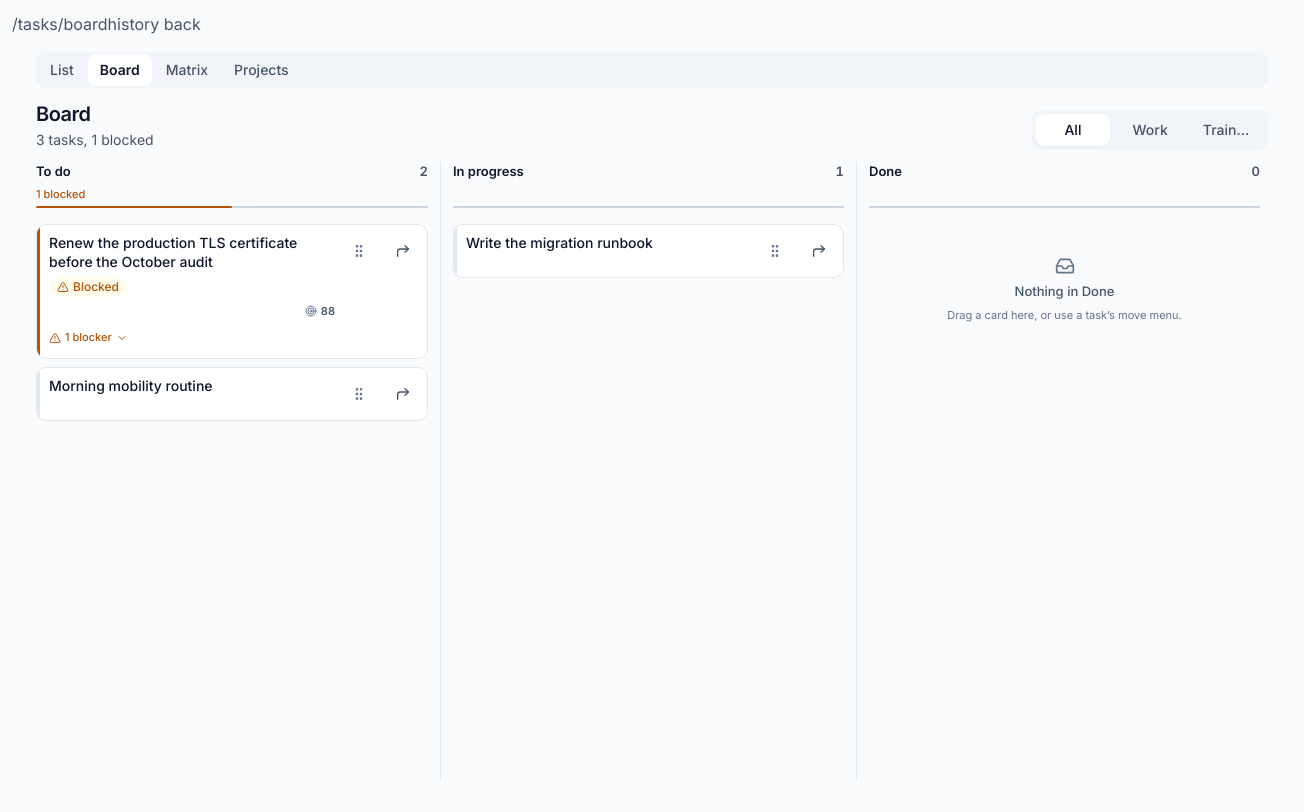
BoardPage - drag lifecycle › tears the overlay down again when the drag is cancelled with Escape
Expected: the element "Write the migration runbook" is shown, top-left (453, 224), bottom-right (844, 278)
Step 1. Press the mouse on the button named "Drag Write the migration runbook" → (775, 250), box top-left (757, 232), bottom-right (793, 268)
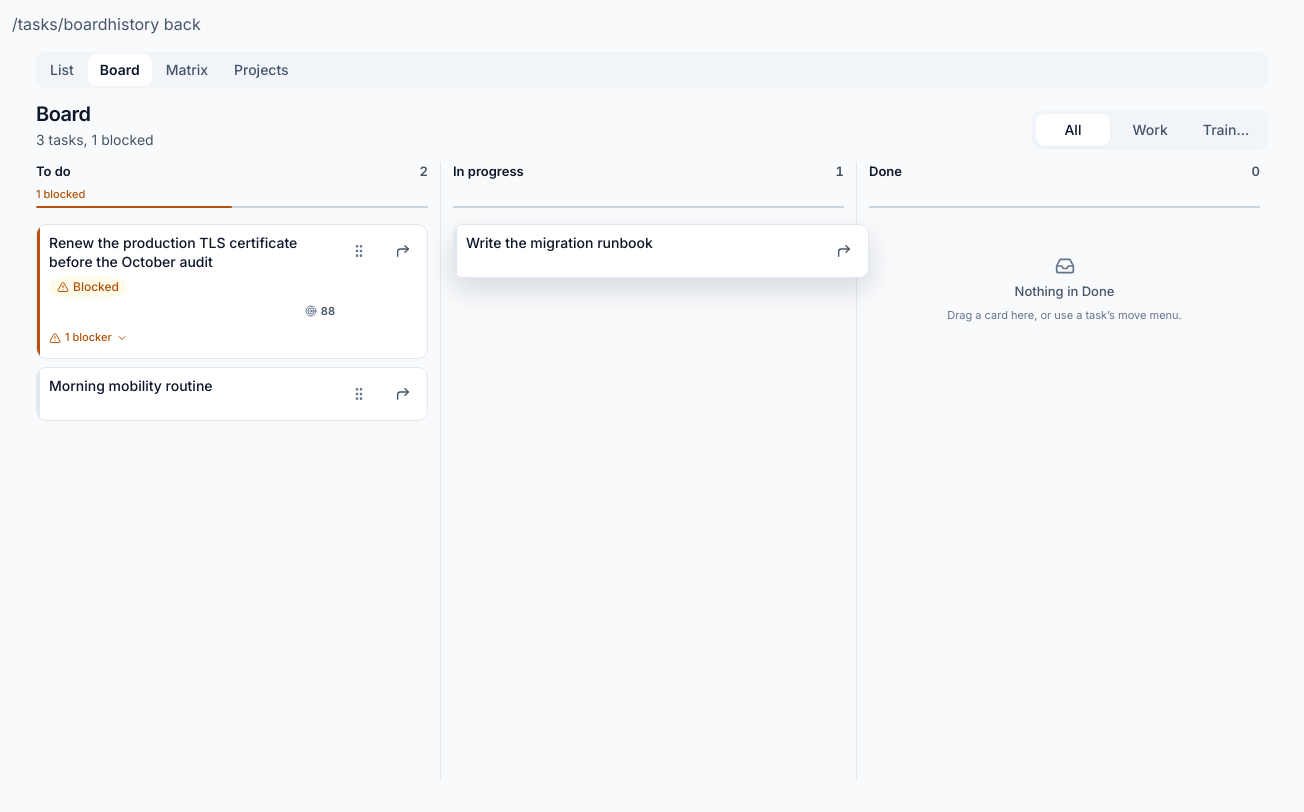
Expected: the number of elements "Write the migration runbook" is 2, top-left (453, 224), bottom-right (844, 278); top-left (453, 224), bottom-right (869, 278)
Step 2. Press Escape
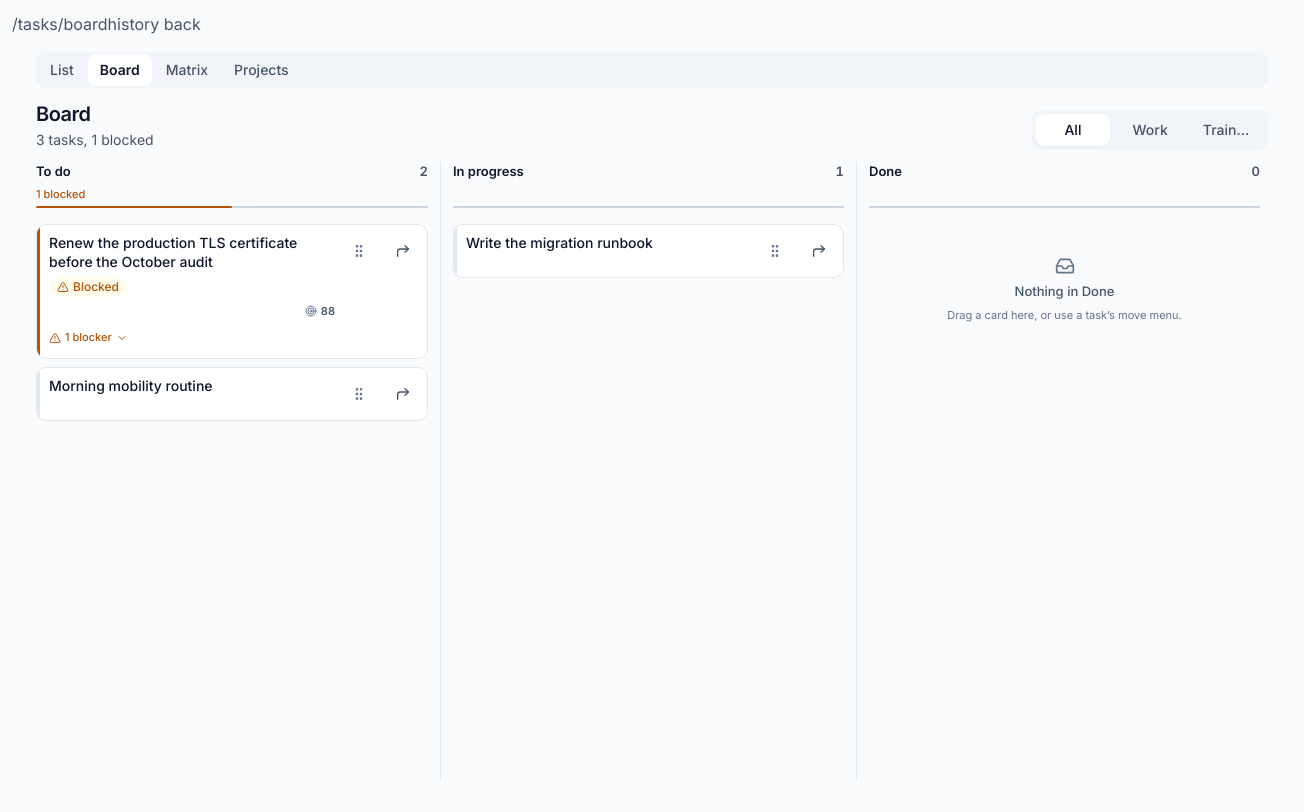
Expected: the number of elements "Write the migration runbook" is 1, top-left (453, 224), bottom-right (844, 278)
